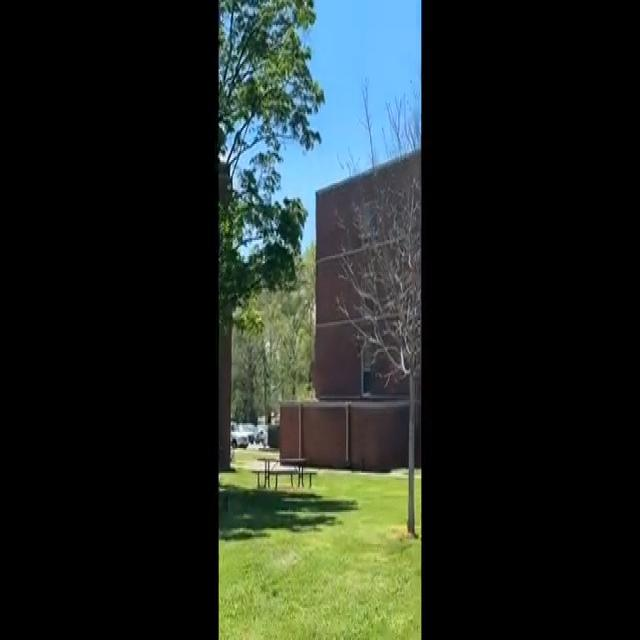drone: (360, 385, 373, 404)
